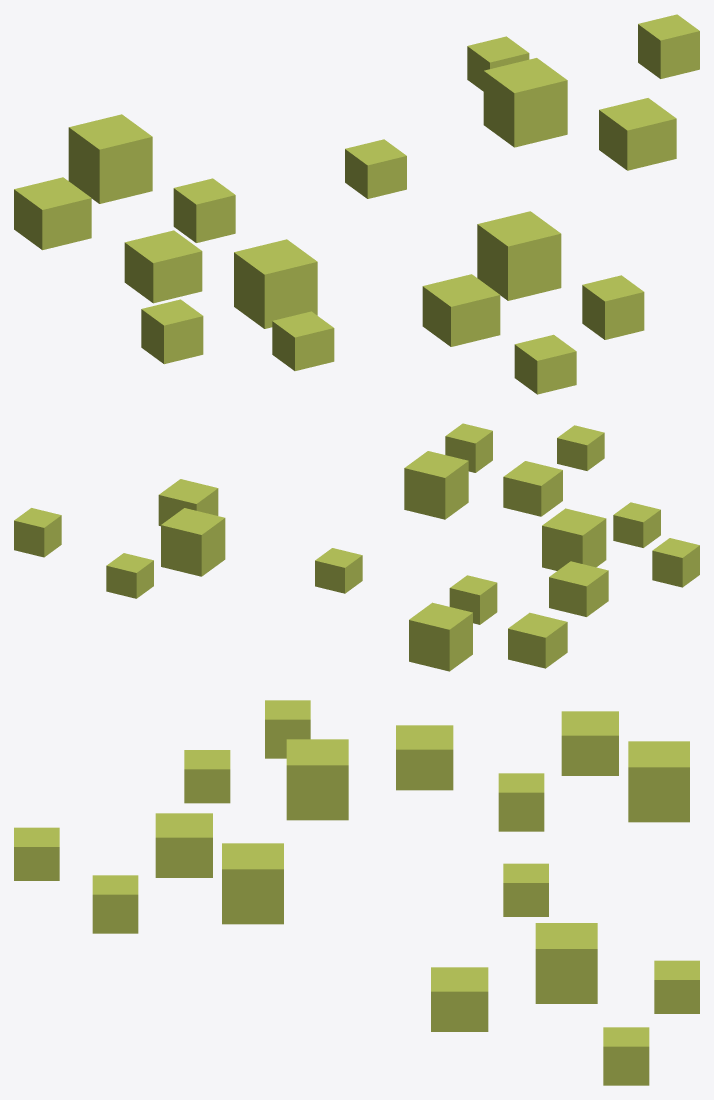
The model's file is fbx_grass02.fbx.
3 renders of one model, top to bottom at view 1: azimuth 30°, elevation 25°; view 2: azimuth 150°, elevation 25°; view 3: azimuth 270°, elevation 25°, orthographic. The views are drawn at different scales.
Visible parts, largest first — view 1: sm_grass02; view 2: sm_grass02; view 3: sm_grass02.
Boxes of the visible parts, <box> form: sm_grass02: <box>14,14,699,394</box>; sm_grass02: <box>14,423,699,671</box>; sm_grass02: <box>14,700,699,1085</box>.
Bounding box in the file's own units: 73.98 × 5.47 × 61.94.
